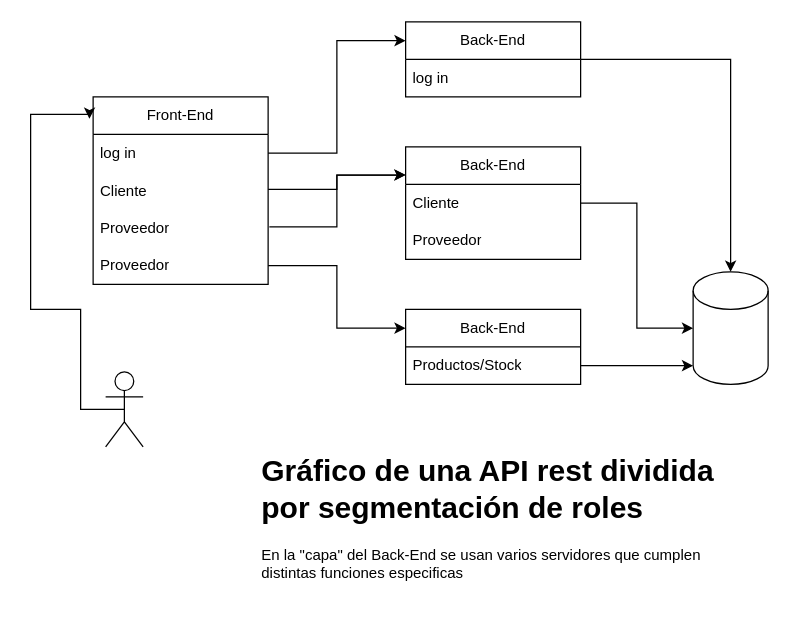
Some shapes in this 790 by 619 pixel diagram are drawn without their labels. The box of each missing label's shape, as (x1, y1, x2, y2) in pixels:
Navegador del cliente: (104, 371, 143, 447)
Servidor de base de datos: (692, 271, 768, 384)
